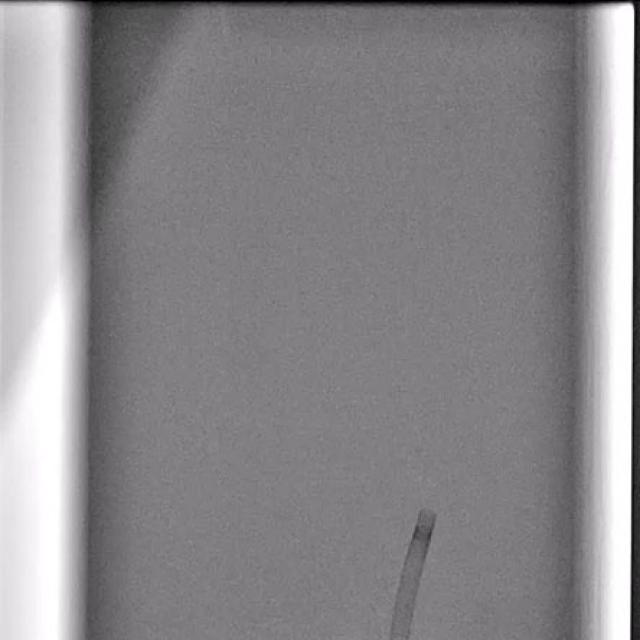entry: (388, 634, 408, 640)
marker: (412, 524, 434, 543)
tip: (419, 508, 438, 518)
